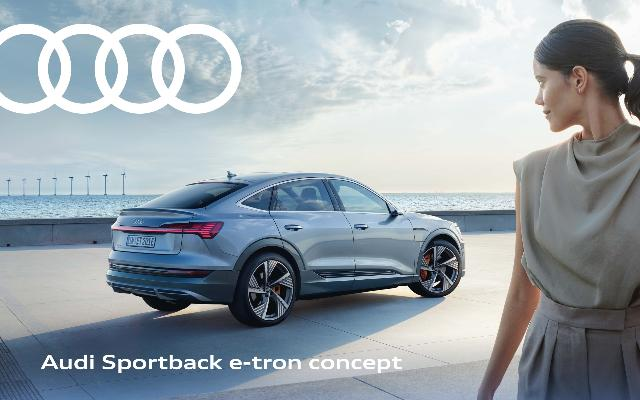audi: (104, 170, 466, 328)
